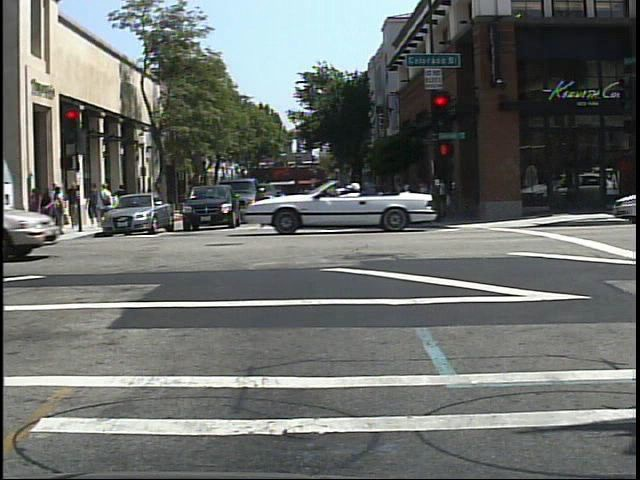person: (97, 179, 115, 225)
